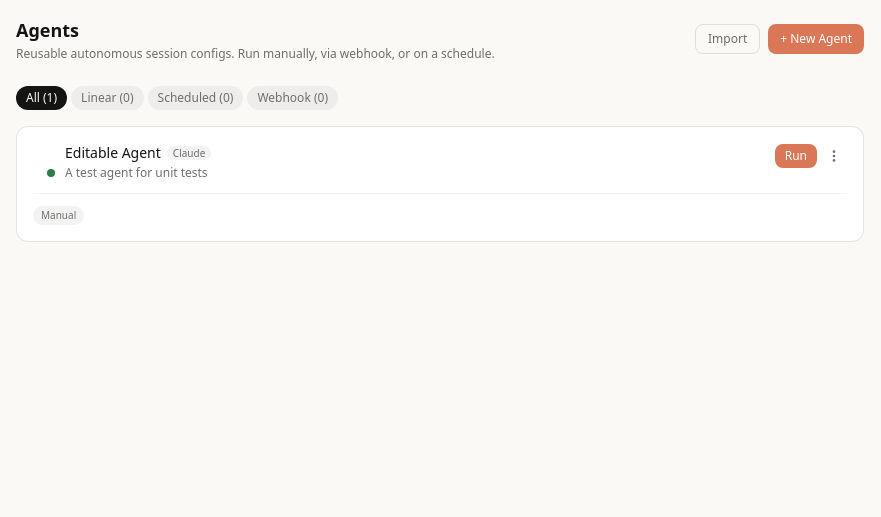
it: AgentsPage › clicking Edit in overflow menu opens the editor in edit mode
This screenshot has width=881, height=517.
Expected: the heading "Editable Agent" is shown, [65, 143, 161, 163]
Open overflow menu, then click Edit
Click the button named "More actions" at (834, 156), box [821, 143, 847, 169]
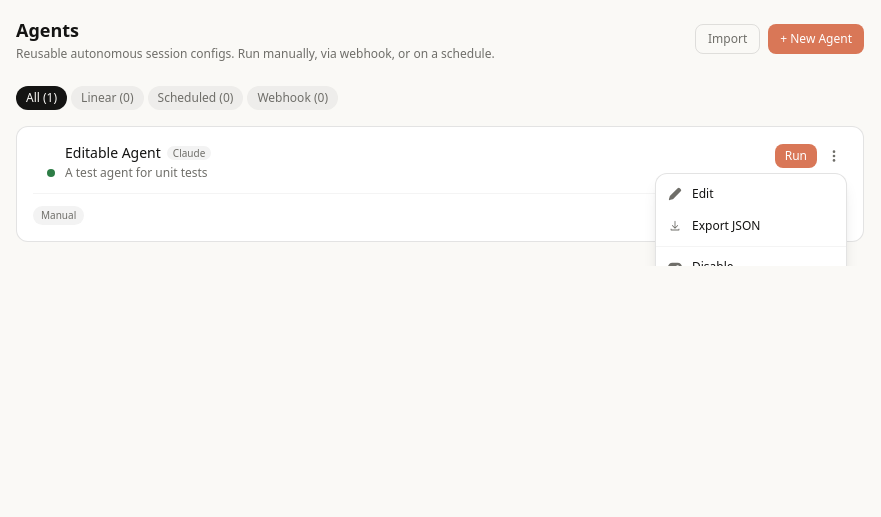
Click the menu item "Edit" at (751, 194), box [656, 178, 846, 210]
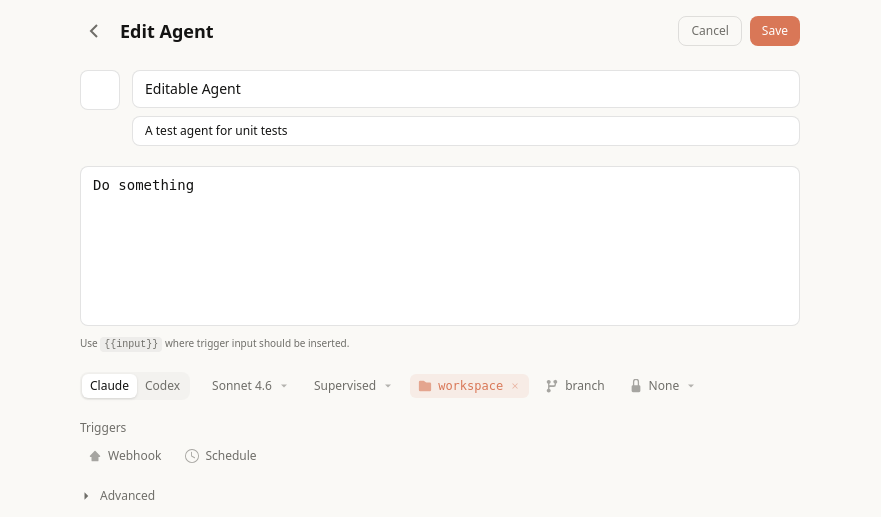
Now the heading "Edit Agent" is shown, box [120, 17, 214, 45]
Now the button "Save" is shown, box [750, 16, 800, 46]
Now the 1st field showing "Editable Agent" is shown, box [132, 70, 800, 108]
